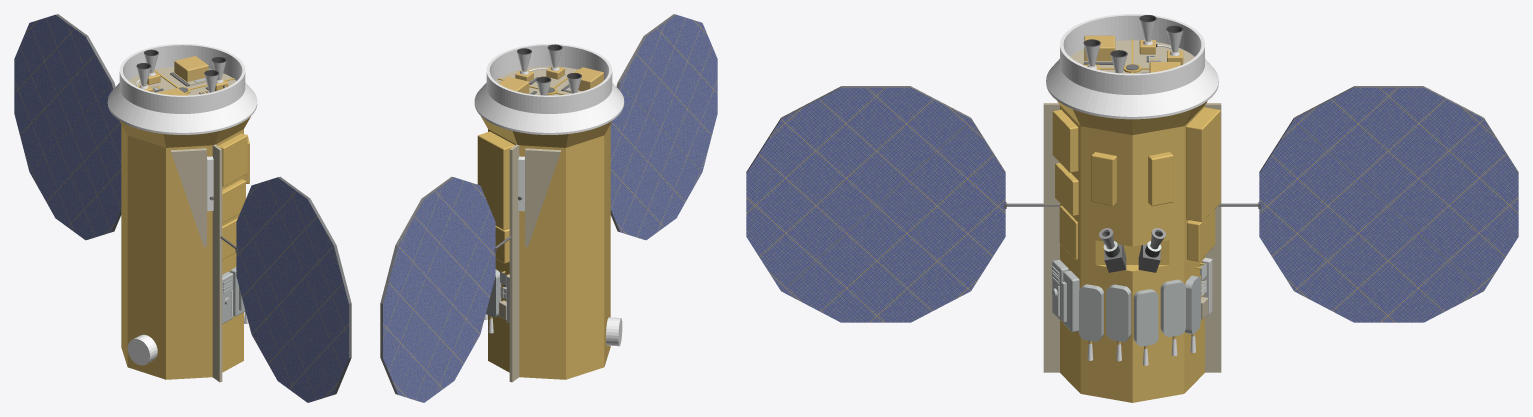
File: deformation-ecosystem-structure-and-dynamics-of-.glb
The picture shows the model from 3 angles, left to right: view 1: azimuth 30°, elevation 25°; view 2: azimuth 150°, elevation 25°; view 3: azimuth 270°, elevation 25°; orthographic projection. The views are drawn at different scales.
Visible parts, largest first — view 1: Layer_0; view 2: Layer_0; view 3: Layer_0.
Part boxes in pixels (x1,y1,x2,y2): Layer_0: (14, 14, 351, 402); Layer_0: (380, 14, 717, 402); Layer_0: (746, 14, 1518, 402).
Bounding box in the file's own units: 4.79 × 10.2 × 21.28.
2 materials, 2 textured.
